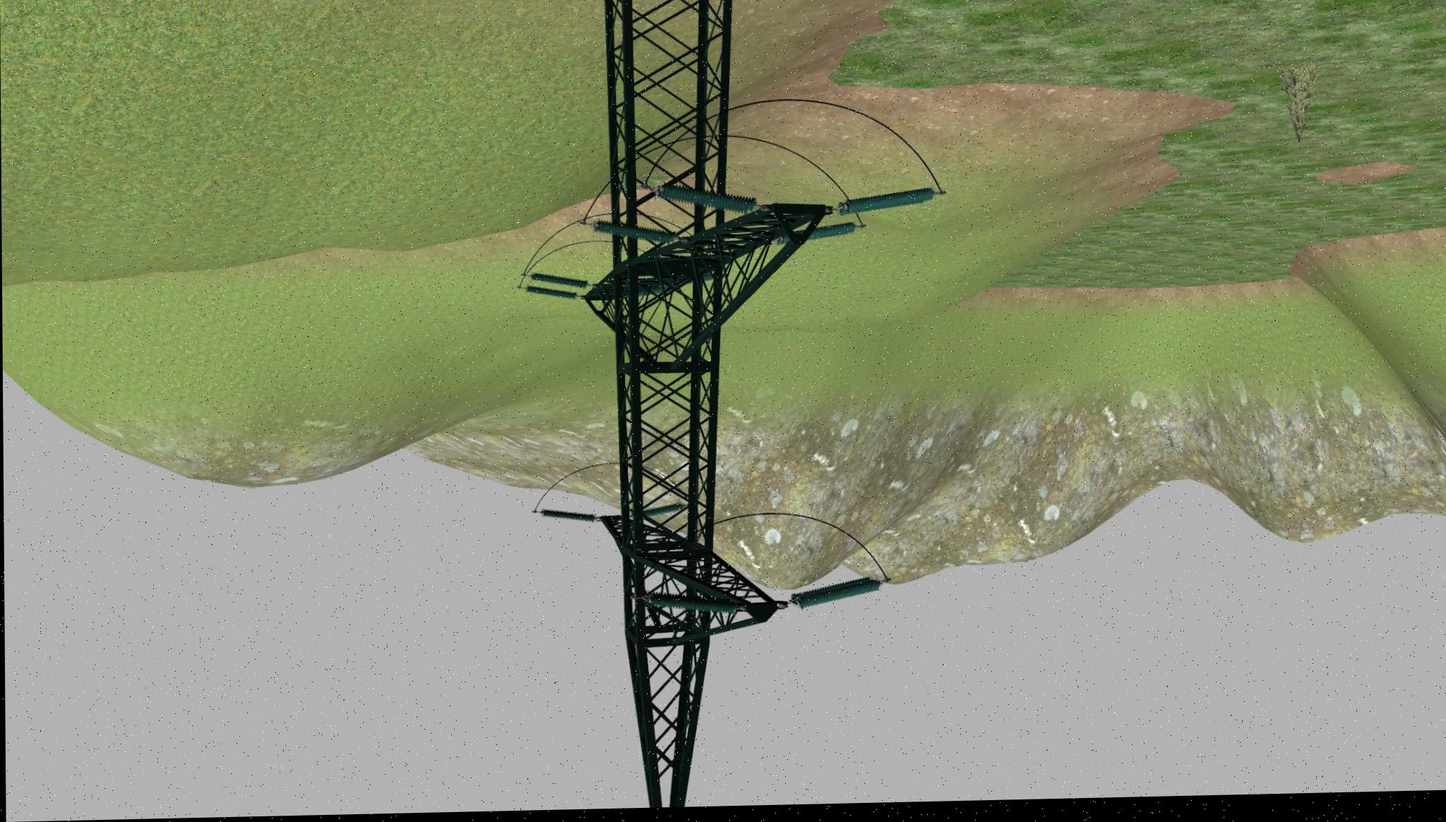tower: (582, 0, 838, 809)
